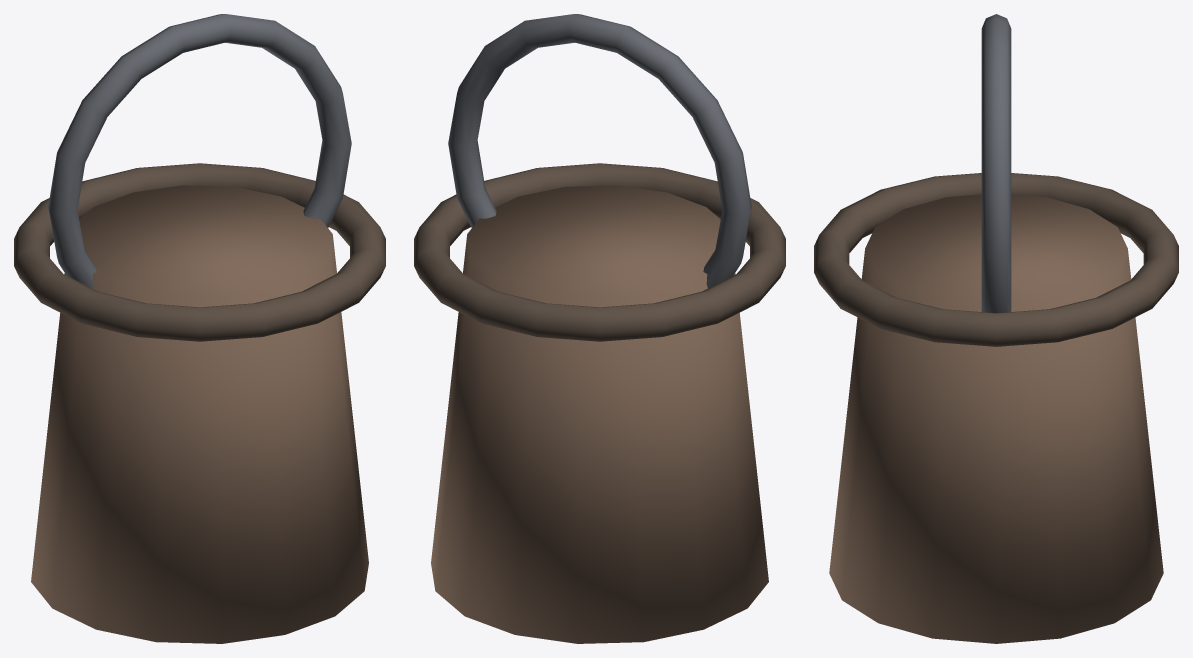
The model's file is prop_bucket.glb.
3 views of the same model, side by side, from view 1: azimuth 30°, elevation 25°; view 2: azimuth 150°, elevation 25°; view 3: azimuth 270°, elevation 25° (orthographic).
Visible parts, largest first — view 1: bucket; view 2: bucket; view 3: bucket.
Part boxes in pixels (x1,y1,x2,y2): bucket: [14, 14, 385, 643]; bucket: [414, 14, 785, 643]; bucket: [814, 14, 1178, 643].
Size of the model in its own units: 0.62 by 1 by 0.6106.
